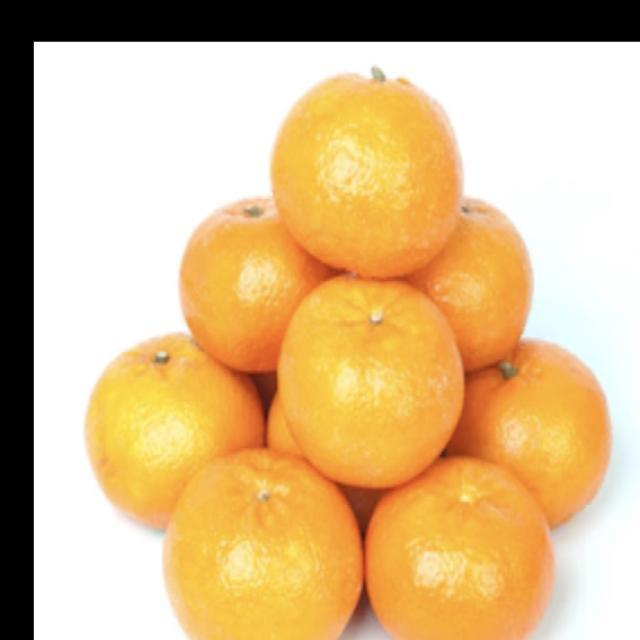Orange: (269, 65, 464, 279), (276, 273, 465, 489), (161, 447, 364, 639), (84, 331, 265, 531), (364, 454, 555, 639), (444, 337, 612, 529), (178, 195, 335, 374), (408, 196, 534, 372)
